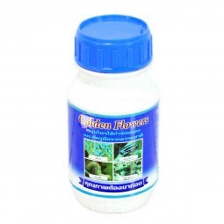insecticide: (61, 12, 161, 220)
